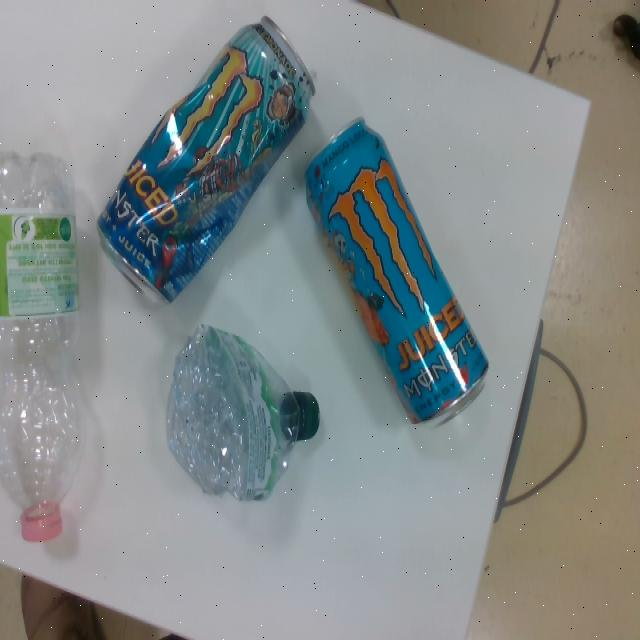aluminum: (93, 15, 315, 317), (301, 113, 489, 432)
plastic: (0, 146, 85, 544), (156, 323, 320, 503)
